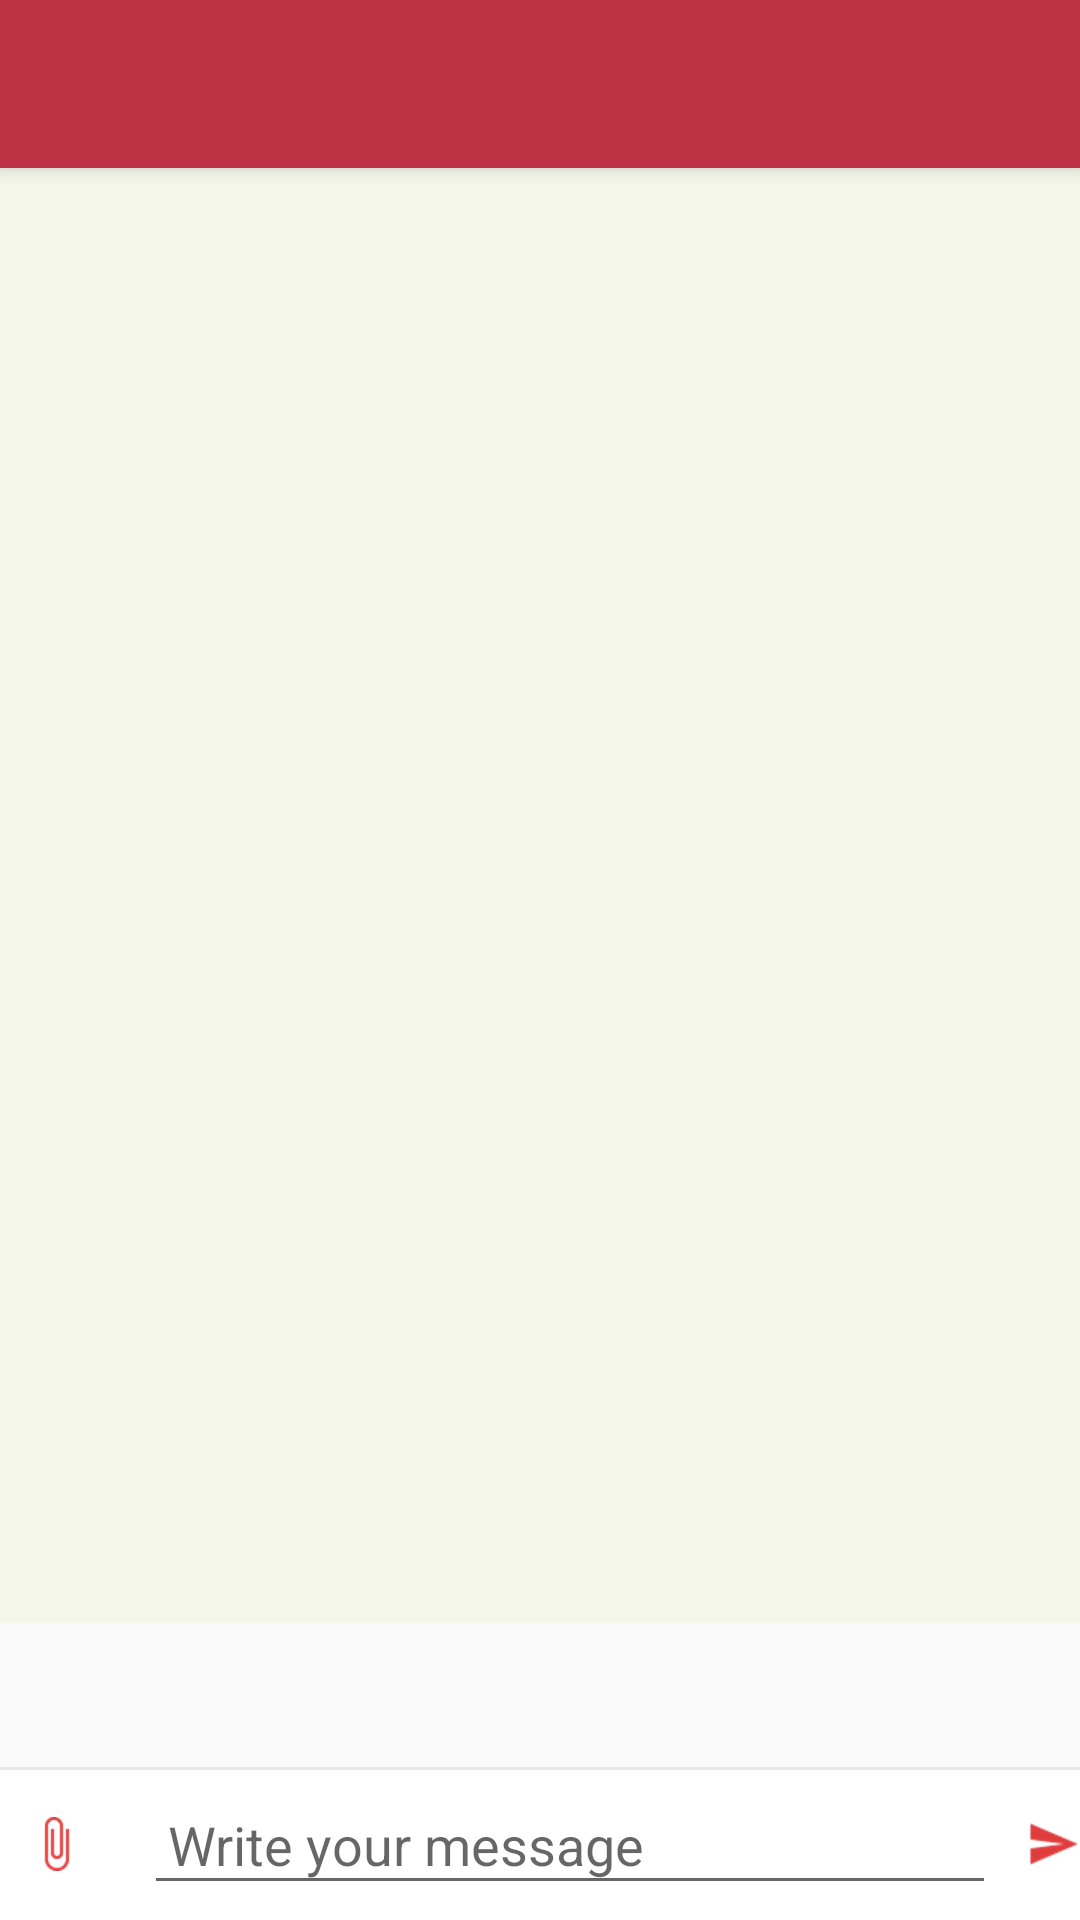

Icon click points for this 1080x1920 phone screenshot, format [x,y]:
attach file: [57,1844]
send: [1053,1844]
